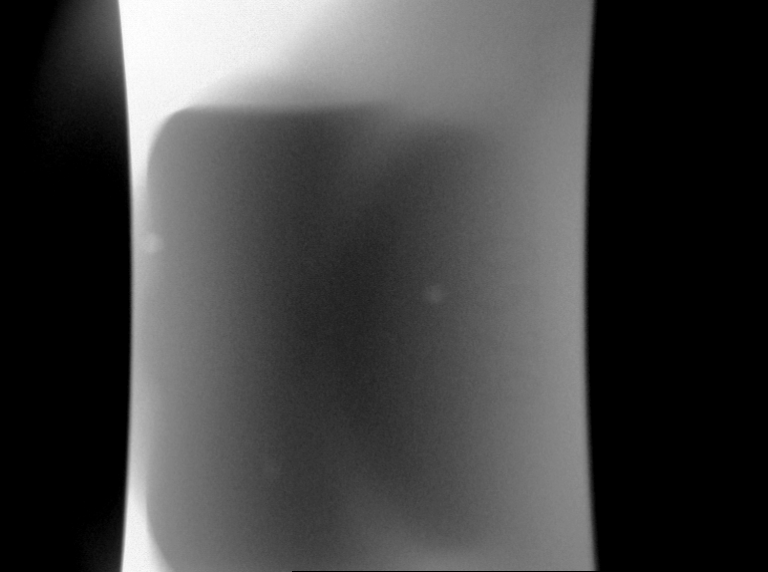defect: (140, 231, 165, 256)
